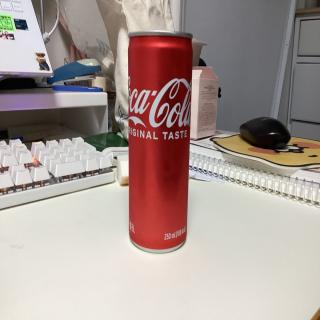cocacola: (122, 20, 198, 253)
